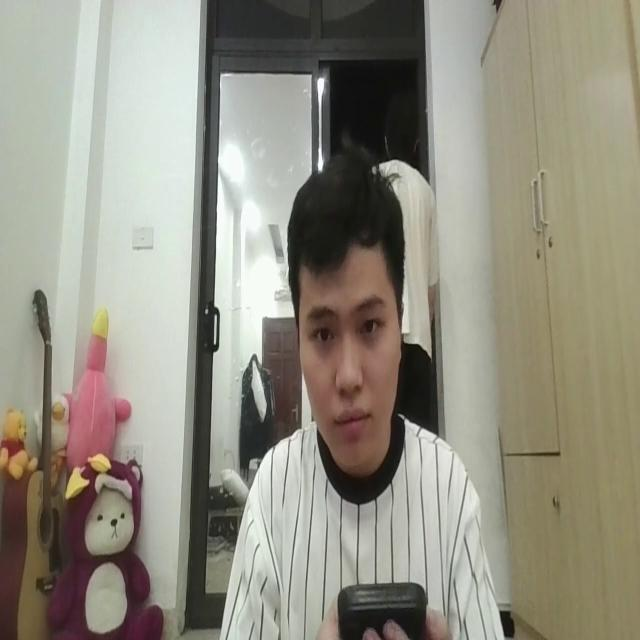extra_person: (378, 117, 440, 404)
phone: (339, 566, 427, 640)
student: (220, 139, 507, 640)
